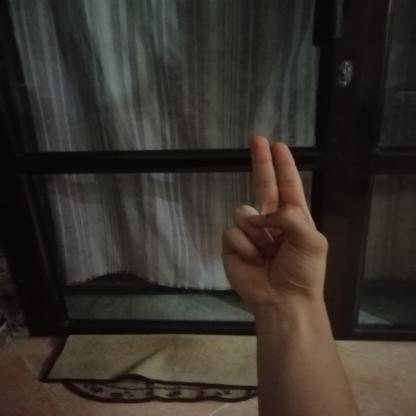TA: (206, 128, 338, 323)
